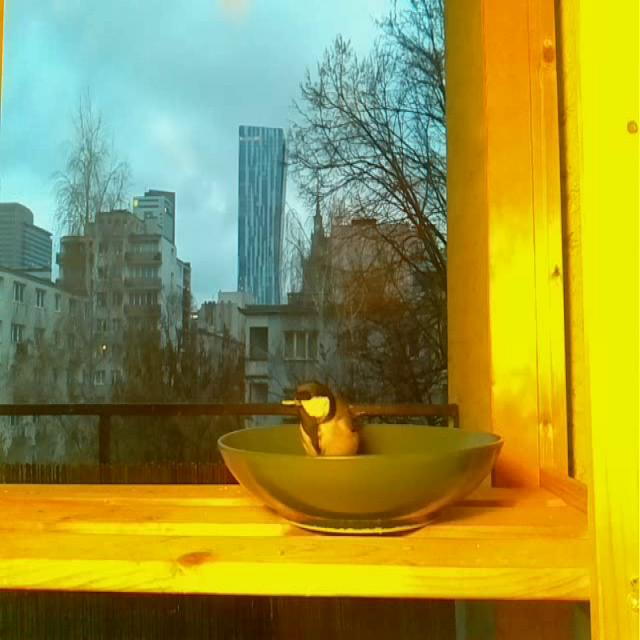Bogatka: (281, 378, 369, 454)
